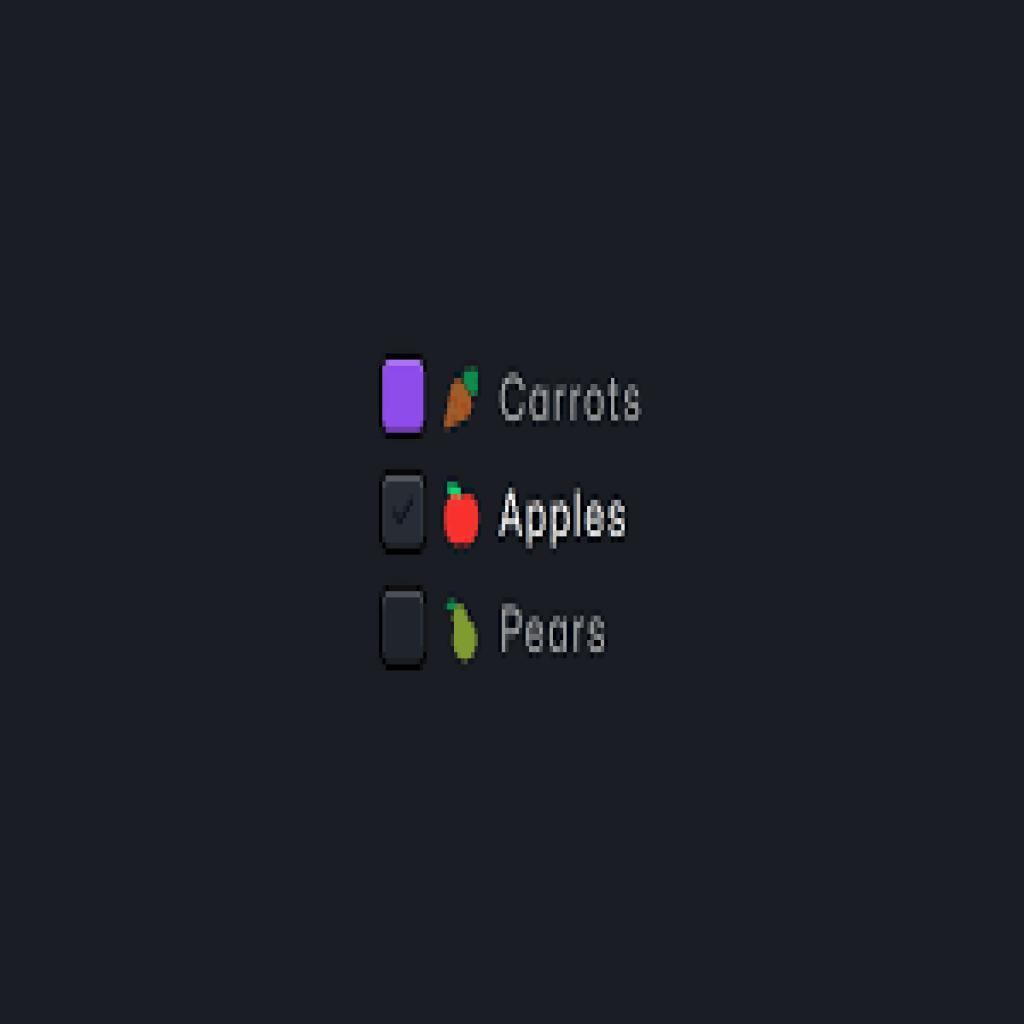checkbox: (378, 470, 430, 556), (378, 586, 429, 673), (379, 354, 429, 440)
icon: (442, 482, 483, 555), (441, 366, 482, 436), (444, 596, 482, 667)
label: (494, 484, 629, 555), (496, 370, 644, 428), (498, 601, 611, 661)
